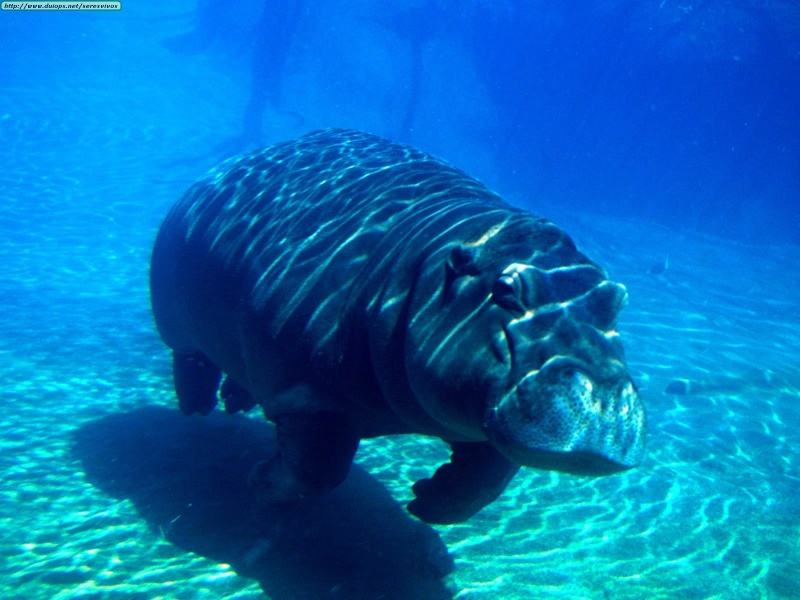hipopotamo: (131, 121, 668, 547)
